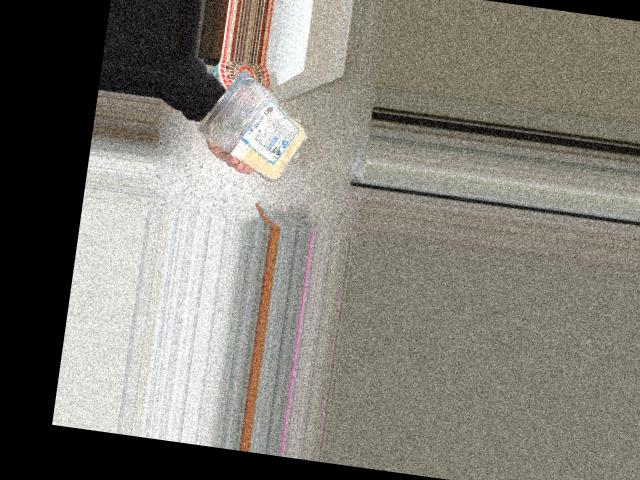cheese: (201, 70, 322, 175)
